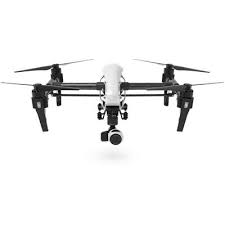Drone: (6, 39, 219, 174)
